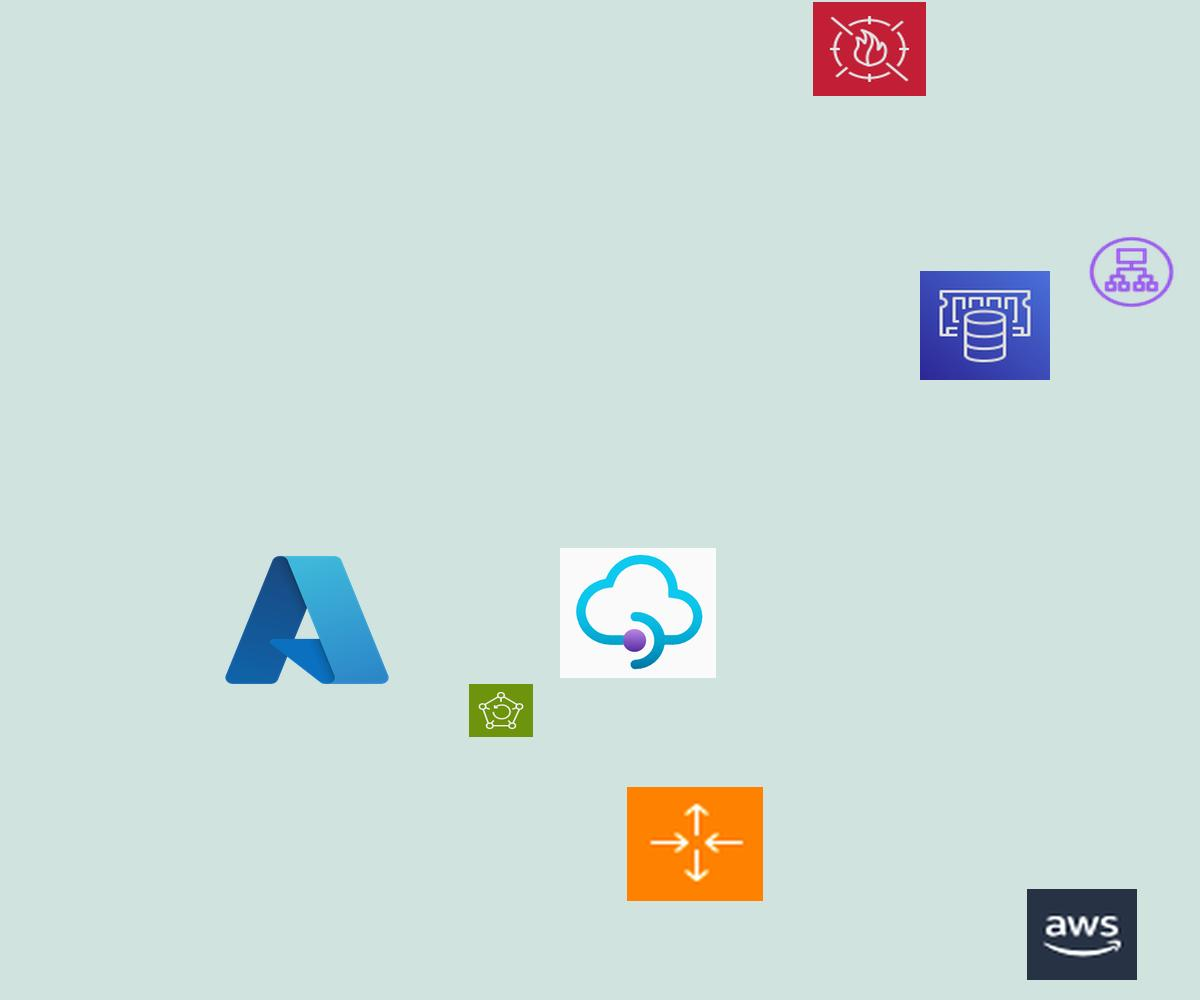AWS-Backup: (469, 684, 533, 737)
AWS-Cloud-logo: (1027, 889, 1137, 980)
AWS-ElastiCache: (920, 271, 1050, 380)
AWS-Res_Elastic-Load-Balancing_Application-Load-Balancer: (1086, 234, 1177, 310)
AWS-Scaling-group: (627, 787, 763, 901)
AWS-WAF: (813, 2, 926, 96)
Azure_api_gateway: (560, 548, 716, 678)
Azure_services: (218, 546, 396, 694)
